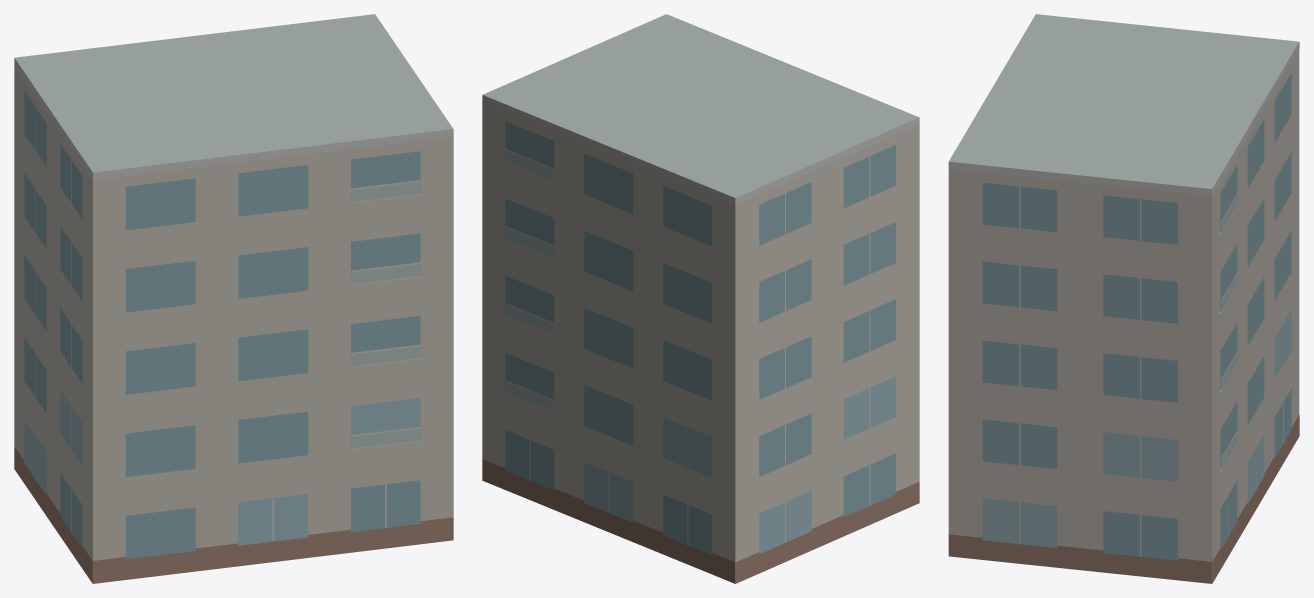
The model's file is survey-upis-32945581.glb.
3 renders of one model, left to right at view 1: azimuth 30°, elevation 25°; view 2: azimuth 150°, elevation 25°; view 3: azimuth 270°, elevation 25°, orthographic. The views are drawn at different scales.
Parts seen in each view (by area): view 1: survey-upis-32945581.tmp; view 2: survey-upis-32945581.tmp; view 3: survey-upis-32945581.tmp.
Boxes of the visible parts, box(x1,y1,x2,y2) form: survey-upis-32945581.tmp: box(14, 14, 453, 583); survey-upis-32945581.tmp: box(482, 14, 919, 583); survey-upis-32945581.tmp: box(948, 14, 1299, 583).
Size of the model in its own units: 12.76 by 13.4 by 10.8.
